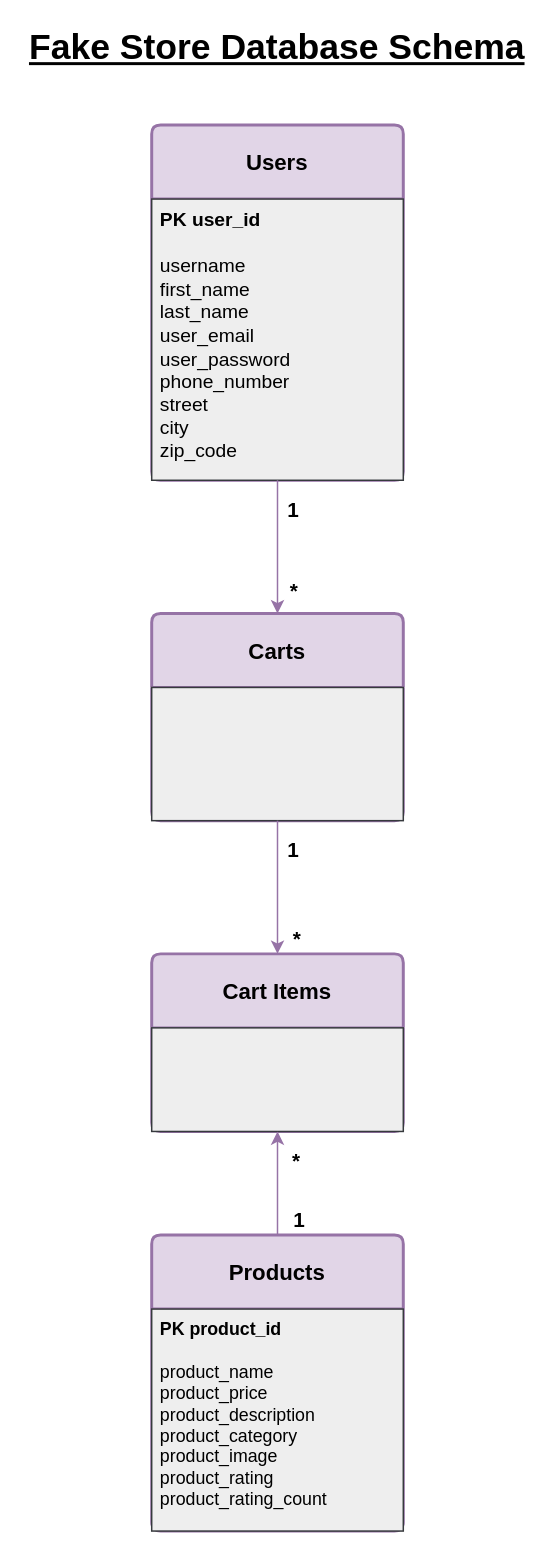
This 554x1557 diagram has some shape labels left out. The centre of each missing label's shape, as x and y in pixels:
PK cart_id FK user_id date: the point at 276,753
PK, FK cart_id PK, FK product_id quantity: the point at 276,1078
